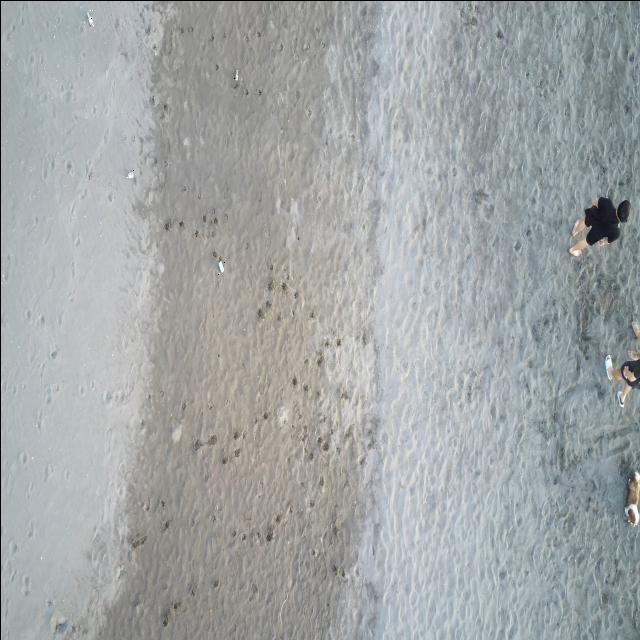Garbage: (85, 9, 92, 26), (125, 169, 134, 179)
